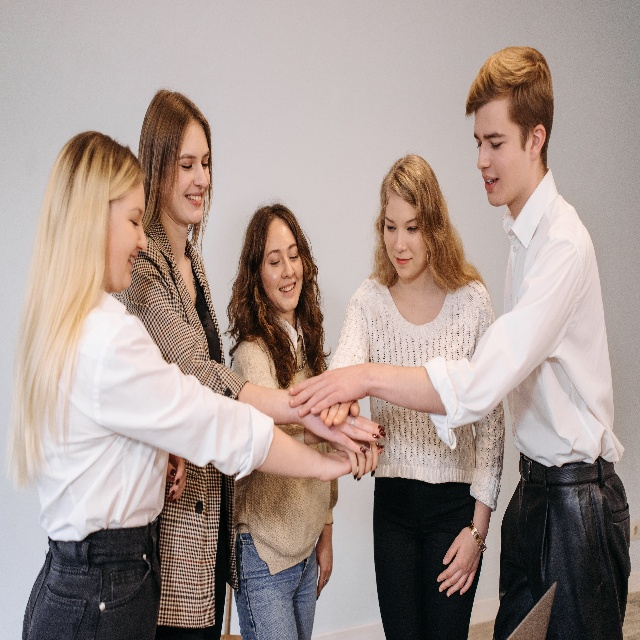Sin_guantes: (289, 358, 365, 421), (305, 405, 386, 455), (436, 530, 483, 600), (323, 436, 379, 482), (326, 441, 384, 478), (315, 522, 334, 600), (164, 457, 188, 504), (319, 399, 360, 425)
